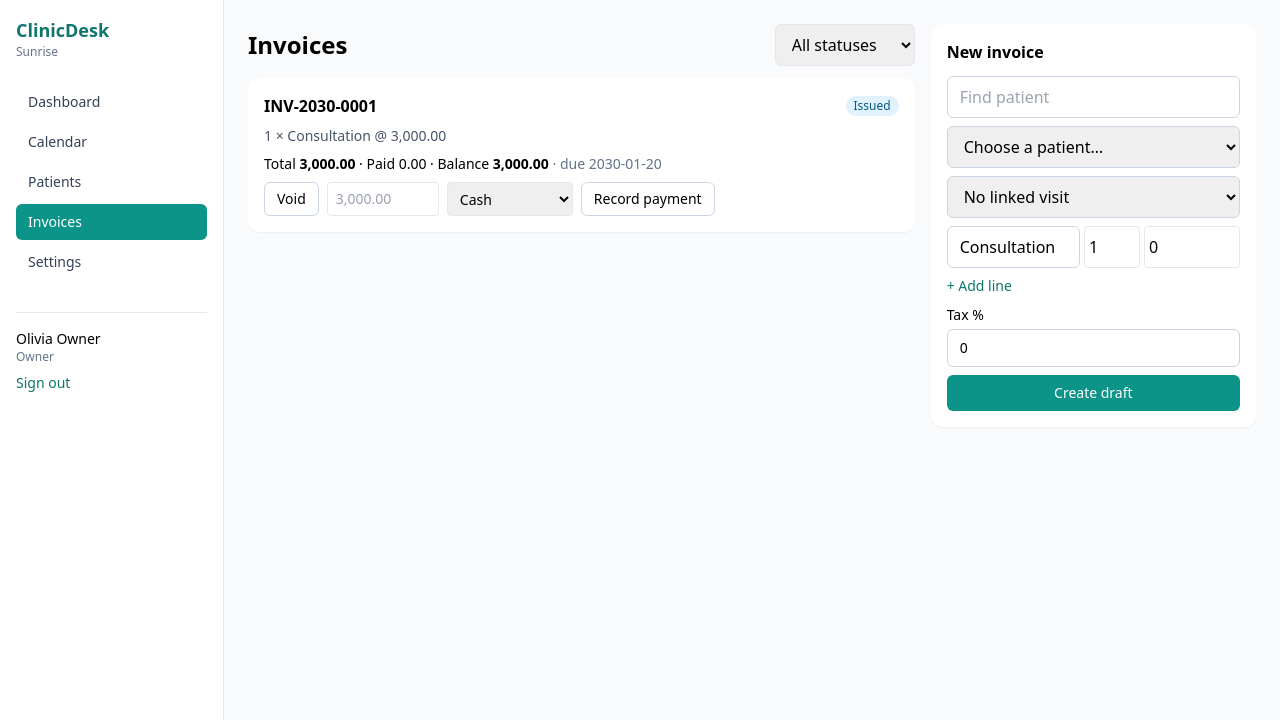
it: invoices › filters by status and shows errors
Click the button "Void". click: (291, 199)
box: [264, 182, 319, 216]
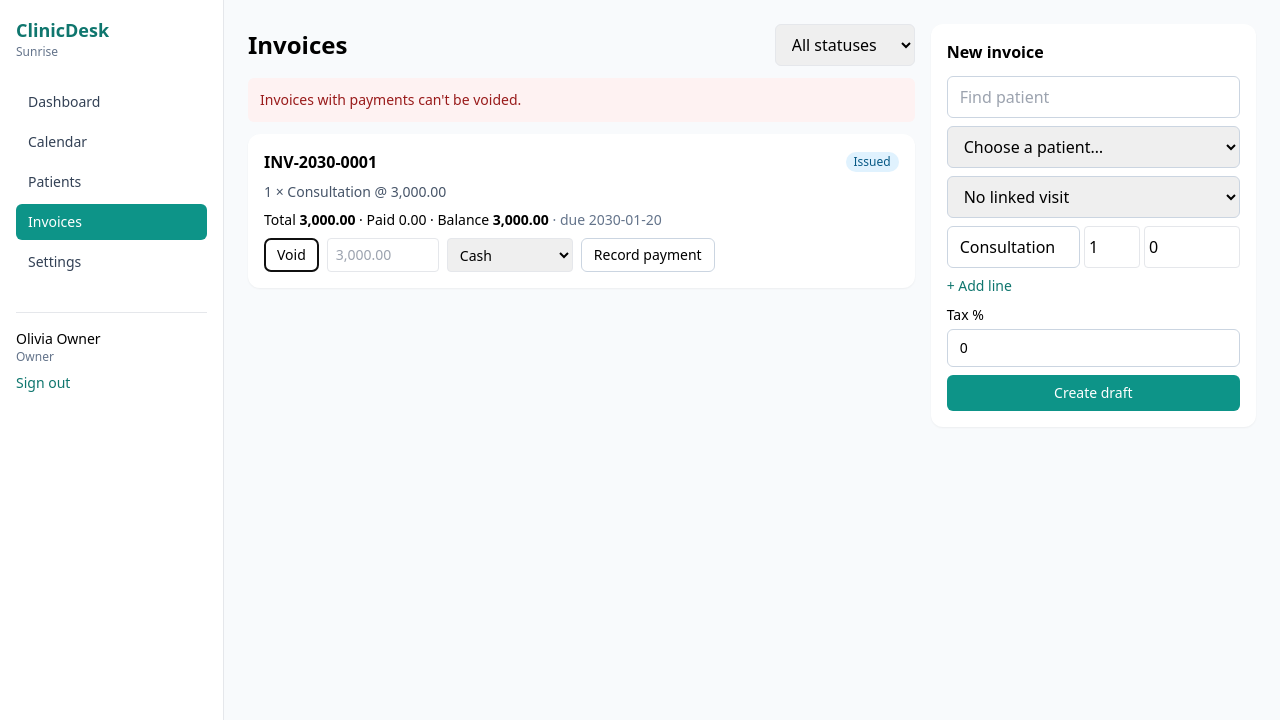
Now the message shows "can't be voided", box [260, 90, 521, 109]
Select "Void" in the dropdown named "Status filter". click: (845, 45)
box: [775, 24, 915, 66]
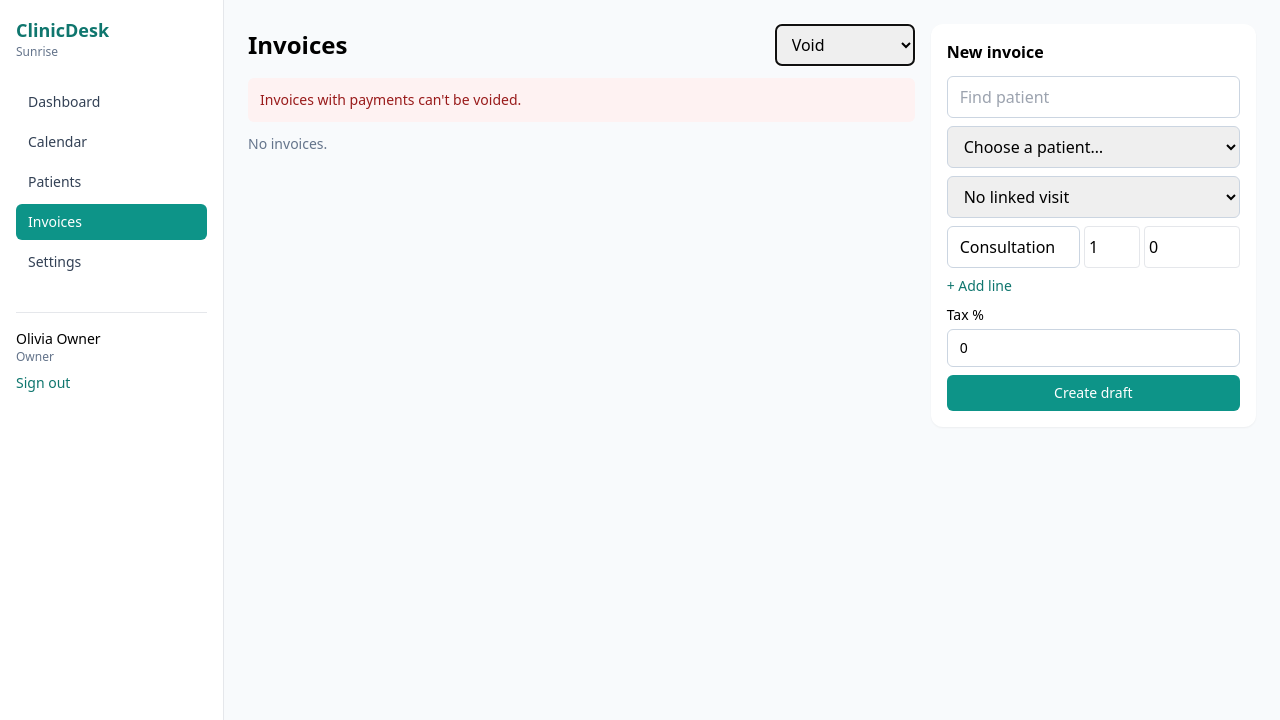
Now the text "No invoices." is shown, box [248, 134, 327, 153]
